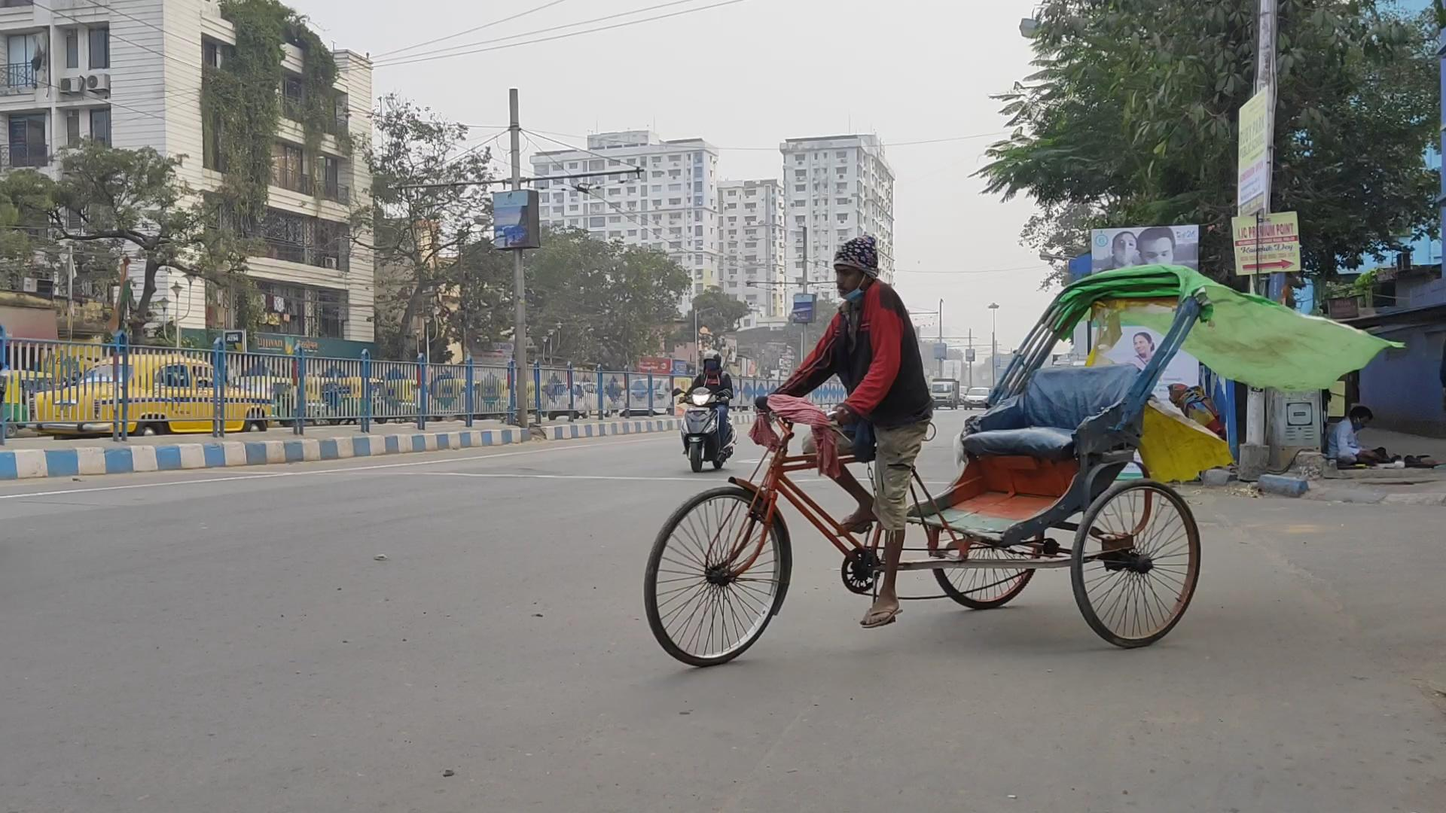bike: (669, 350, 738, 473)
car: (963, 387, 991, 410)
van: (930, 378, 959, 411)
